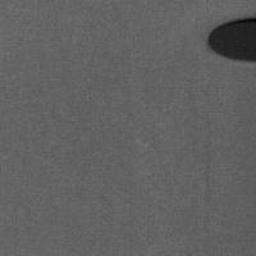Punching: (209, 18, 256, 61)
